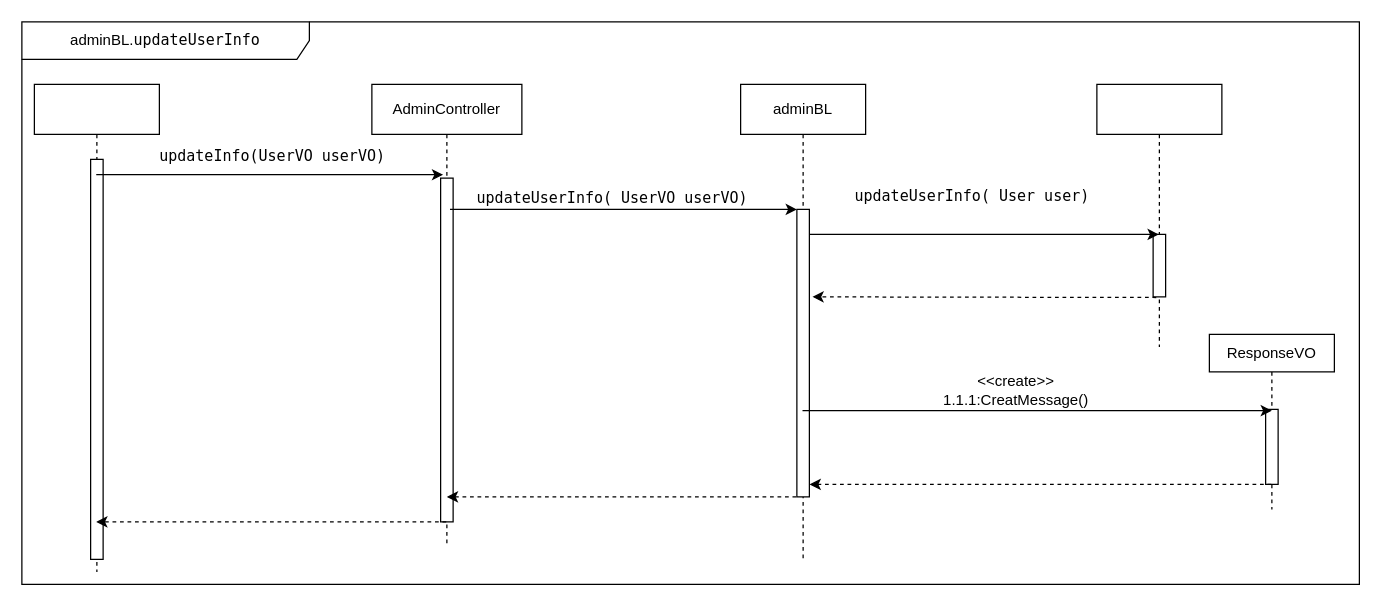
Some shapes in this 1381 by 606 pixel diagram are drawn without their labels. Here are the shapes that lost their labels. From the top down, the box of each, then its label:
(1096, 83, 1222, 347): AccountMapper
(33, 83, 159, 572): AdminUI
